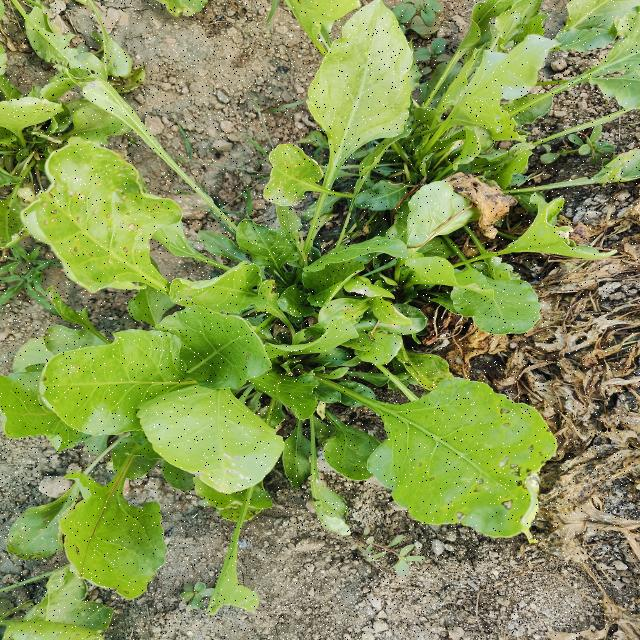half-leaf: (467, 201, 613, 295)
leaves: (349, 369, 578, 559), (295, 5, 418, 242), (46, 448, 205, 624), (24, 140, 187, 303), (29, 309, 196, 436), (129, 380, 295, 500), (435, 31, 566, 170), (156, 299, 279, 402), (428, 253, 549, 349), (290, 237, 414, 309), (241, 140, 350, 218), (392, 179, 500, 255), (164, 261, 283, 326), (305, 411, 393, 495), (261, 312, 383, 365)
